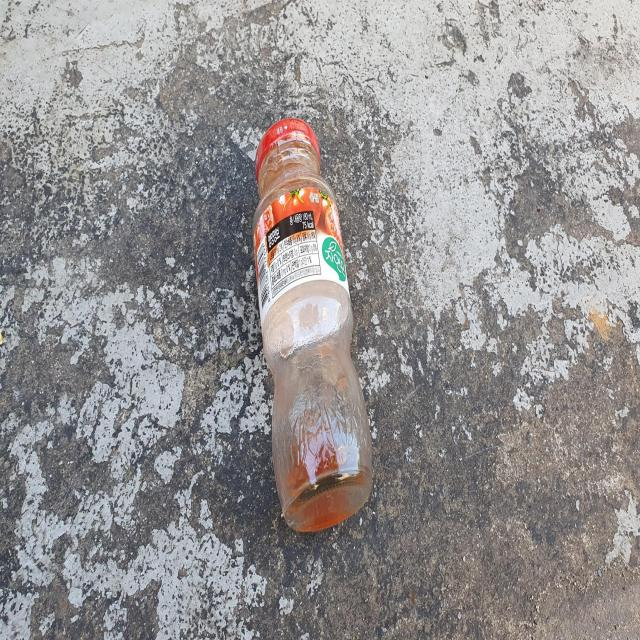glass: (253, 119, 372, 531)
